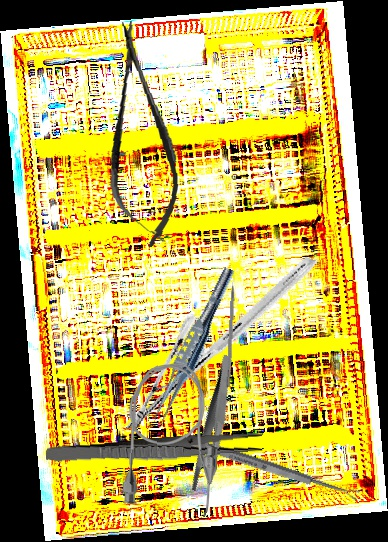Cannula: (122, 361, 221, 518)
Dressing Forceps: (162, 353, 267, 497), (45, 430, 265, 469)
Hook Surgical: (225, 271, 238, 388)
Micro Scissor: (95, 18, 187, 250)
Needle Holder: (123, 219, 318, 470)
Surgical Spoon: (191, 437, 361, 502)
Tissue Forceps: (148, 263, 239, 428)
